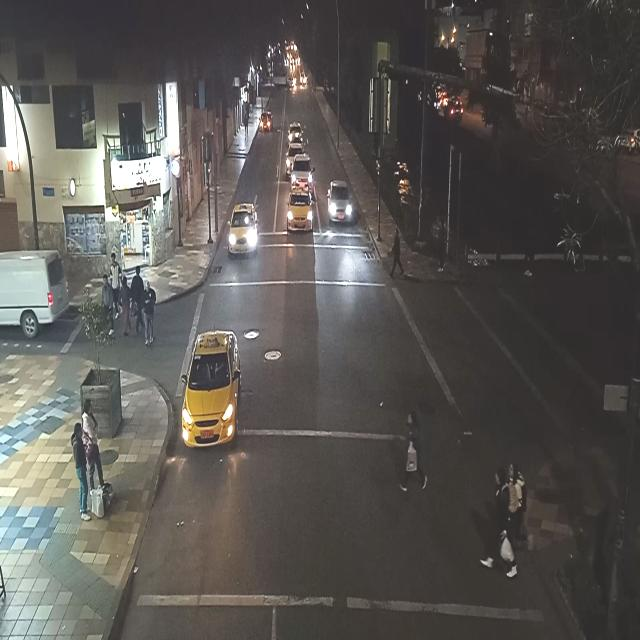CMT: (289, 154, 314, 188)
SED: (182, 334, 240, 448), (230, 207, 258, 256), (287, 194, 312, 231)
